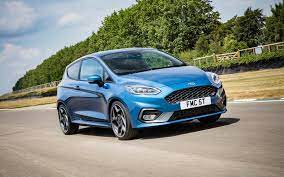Ford: (55, 51, 229, 141)
